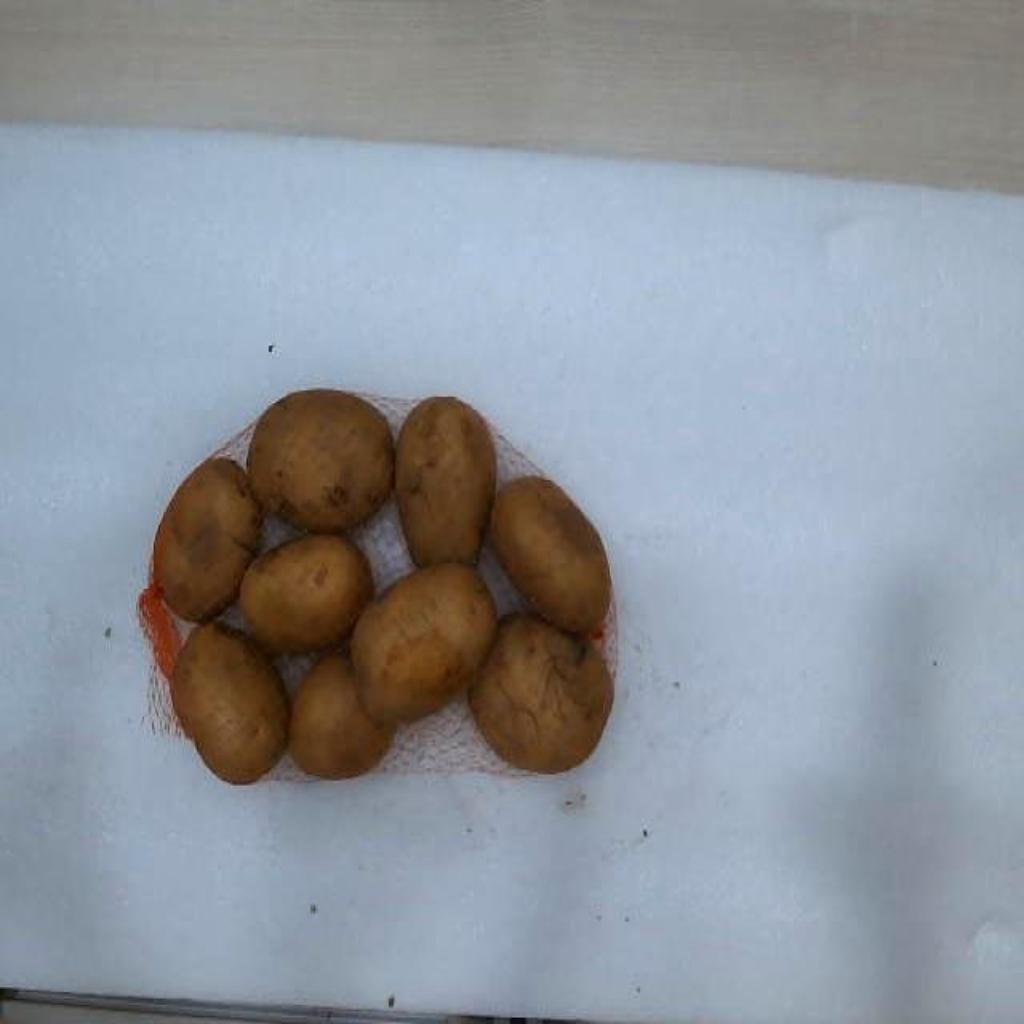potato: (470, 616, 614, 773), (350, 568, 496, 721), (248, 389, 394, 532), (490, 475, 610, 633), (174, 621, 290, 784), (154, 459, 264, 620), (396, 397, 496, 565), (240, 533, 372, 653), (288, 653, 396, 777)
